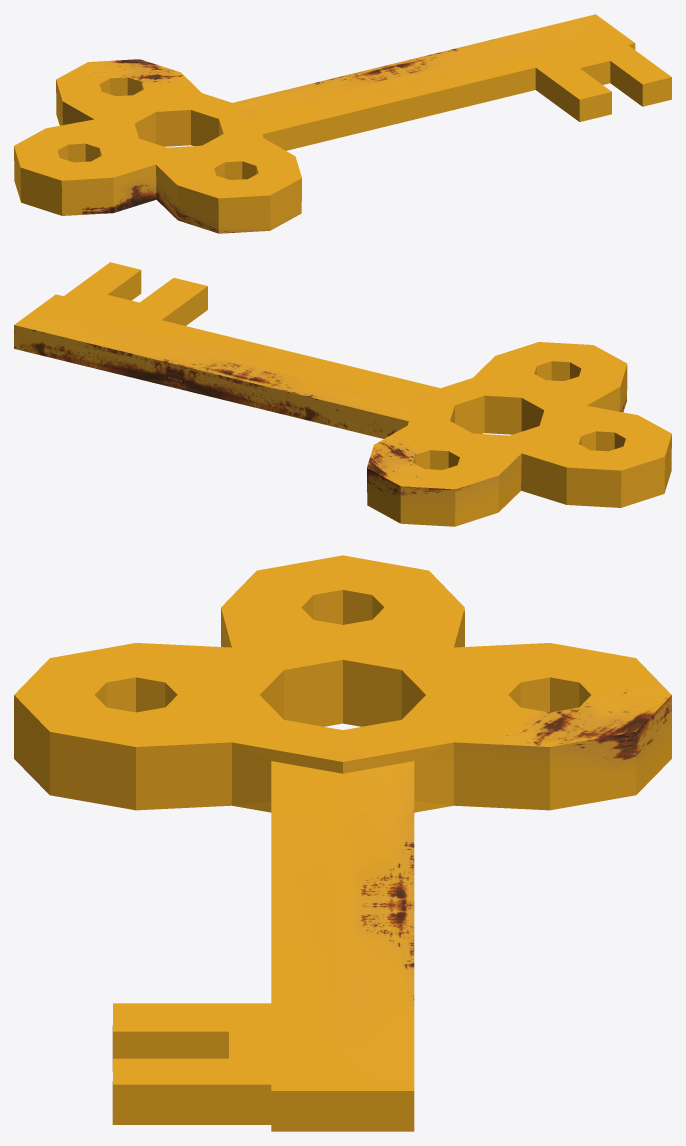
The model's file is Props_Key-Golden.fbx.
3 renders of one model, top to bottom at view 1: azimuth 30°, elevation 25°; view 2: azimuth 150°, elevation 25°; view 3: azimuth 270°, elevation 25°, orthographic. The views are drawn at different scales.
Visible parts, largest first — view 1: Key_Middle; view 2: Key_Middle; view 3: Key_Middle.
Part boxes in pixels (x1,y1,x2,y2): Key_Middle: (14,14,671,233); Key_Middle: (14,262,671,526); Key_Middle: (14,555,671,1131).
Bounding box in the file's own units: 10.02 × 0.5693 × 5.32.
Materials: 1 (1 with a texture image).
